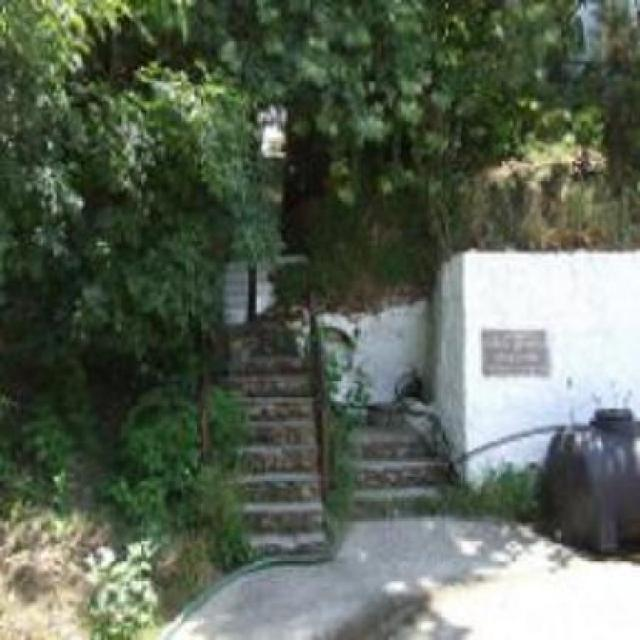stair: (200, 310, 336, 568)
